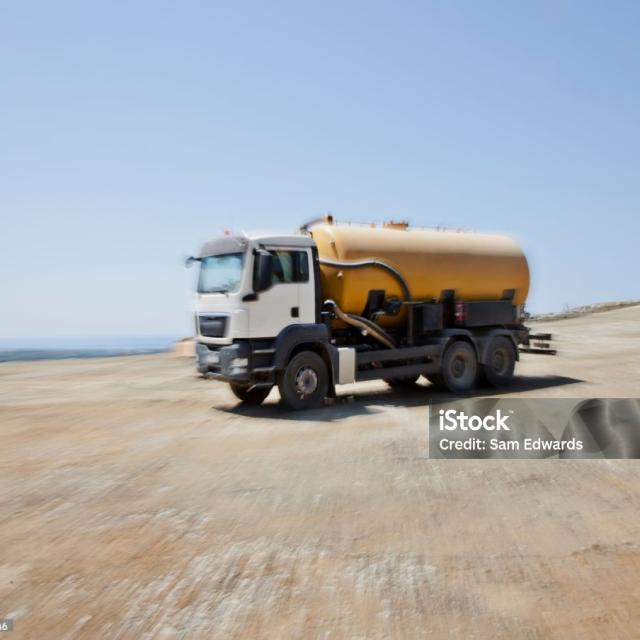truck: (184, 212, 533, 410)
